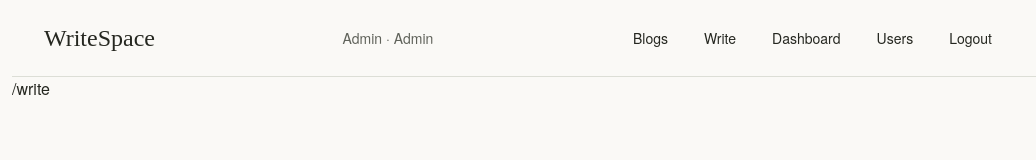
Navbar › navigates through the Dashboard link only on activation
The image size is (1036, 160).
Expected: the text named "Location" reads "/write", [12, 77, 50, 100]
Click the link "Dashboard" at (806, 38), box [772, 28, 841, 48]
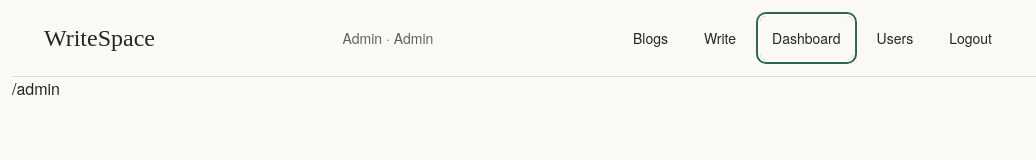
Result: the text named "Location" reads "/admin" at [12, 77, 60, 100]
